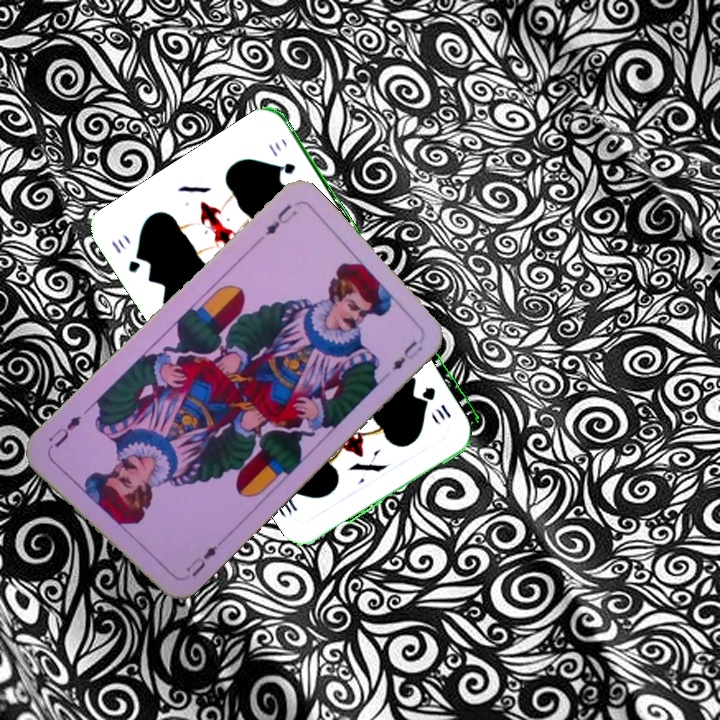EU: (260, 200, 300, 239), (182, 541, 220, 580)
G10: (107, 235, 148, 276), (420, 382, 454, 421)
